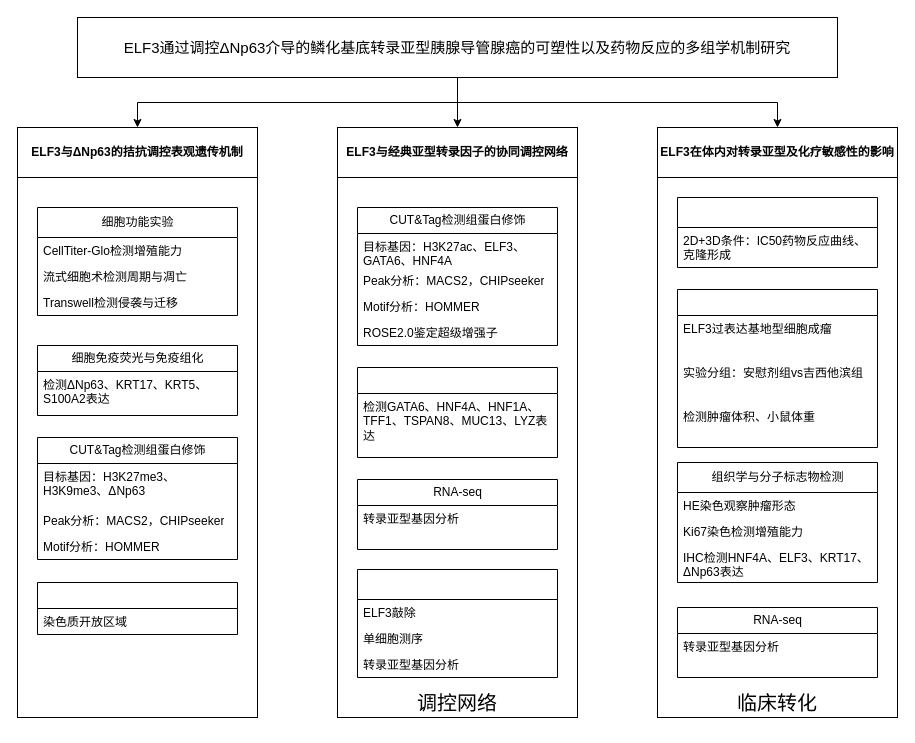
The diagram is 915 pixels wide and 743 high, and some of its shapes have lost their labels. The shapes that lost their labels are listed below. From the top down, each one's box as (x1, y1, x2, y2) in pixels, then its label:
(676, 196, 878, 268): 体外化疗药物反应检测
(676, 288, 878, 448): 裸鼠成瘤化疗药物实验
(356, 366, 558, 458): qPCR与WB
(16, 176, 258, 718): 分子机制
(36, 582, 238, 634): ATACseq
(356, 568, 558, 678): 经典型类器官验证
